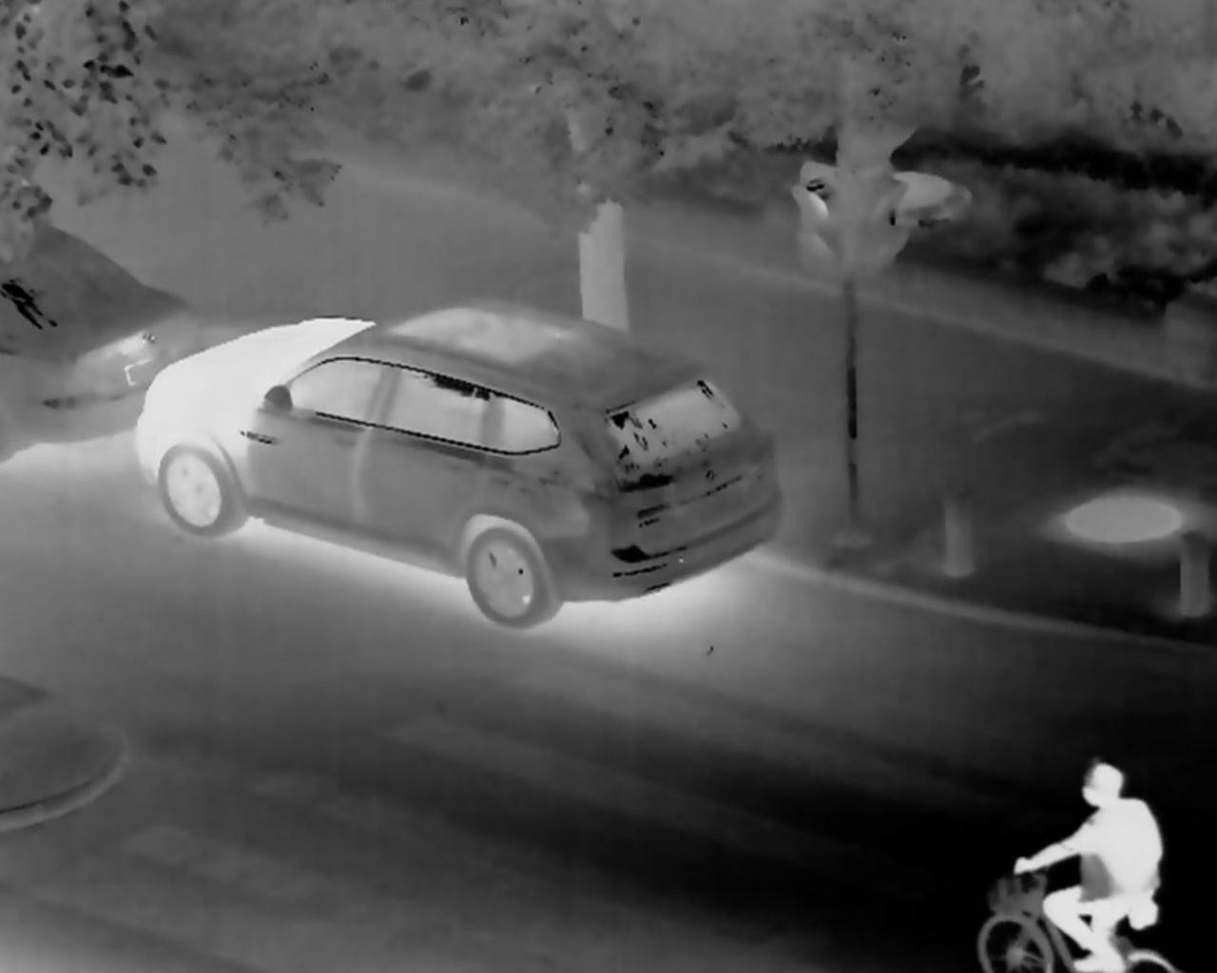person: (1016, 758, 1165, 973)
